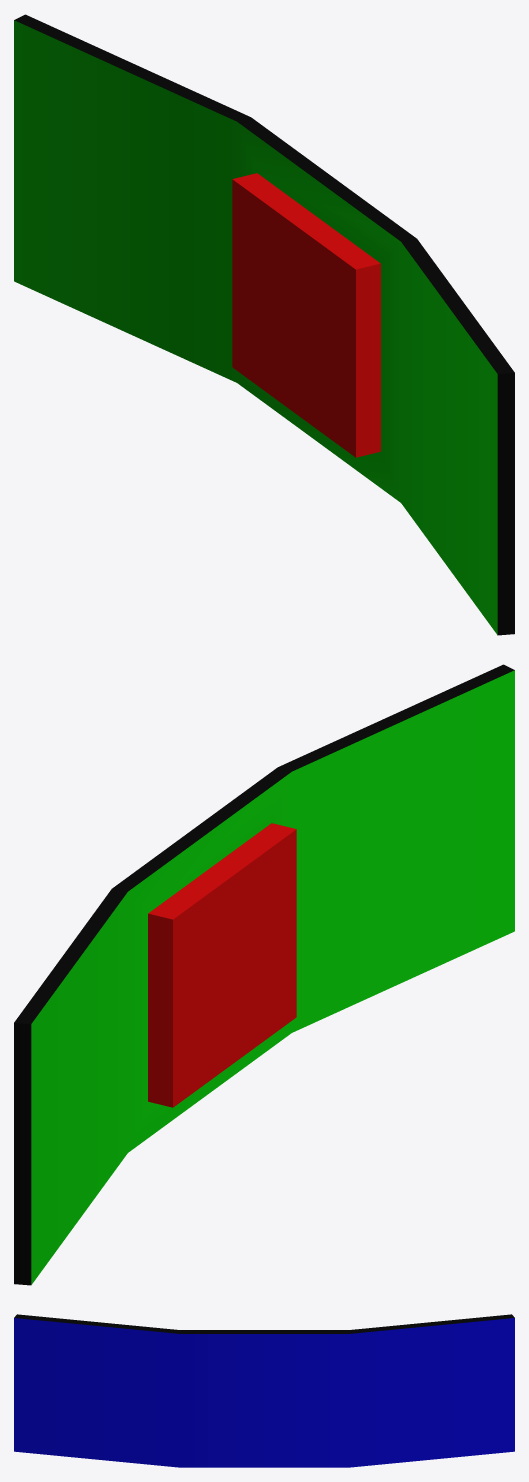
The model's file is cspxl.fbx.
The picture shows the model from 3 angles, top to bottom: view 1: azimuth 30°, elevation 25°; view 2: azimuth 150°, elevation 25°; view 3: azimuth 270°, elevation 25°; orthographic projection. The views are drawn at different scales.
Visible parts, largest first — view 1: Circle; view 2: Circle; view 3: Circle.
Part boxes in pixels (x1,y1,x2,y2): Circle: (14,14,514,635); Circle: (14,664,514,1285); Circle: (14,1314,514,1467).
Size of the model in its own units: 0.1569 by 0.5 by 1.7.
